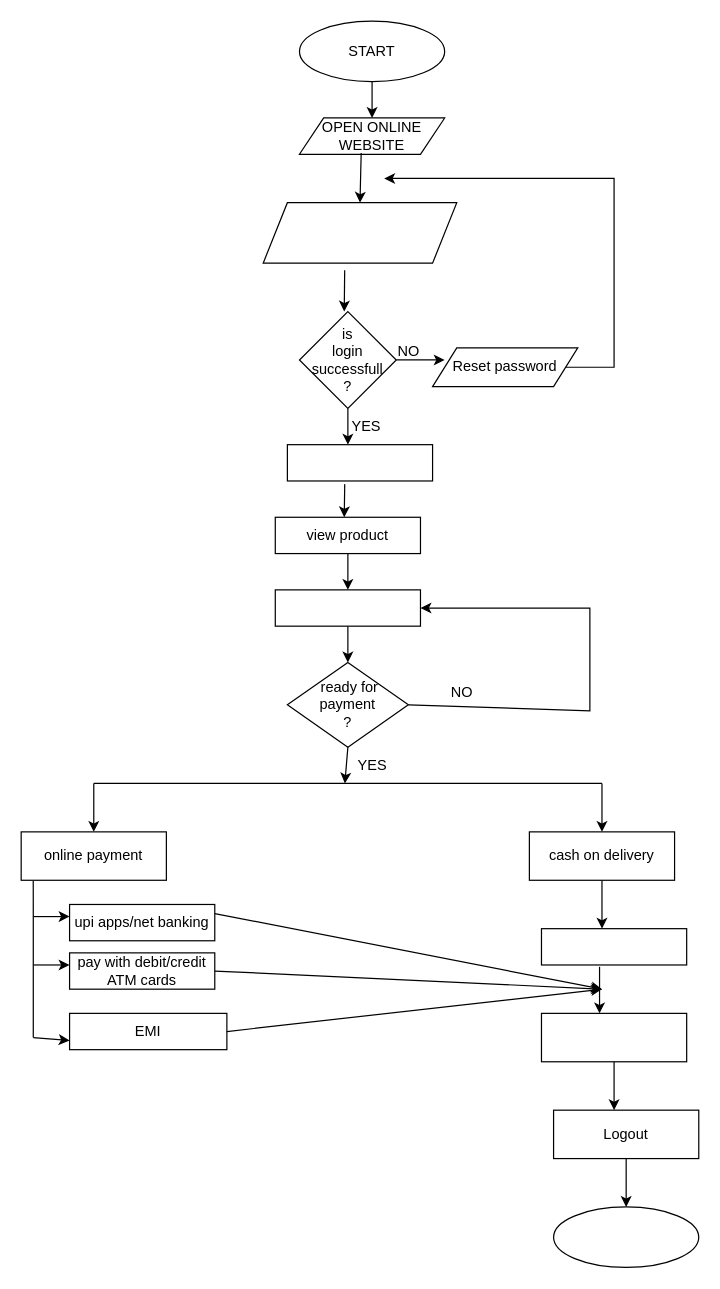
The diagram is 720 pixels wide and 1289 high, and some of its shapes have lost their labels. Each missing label, with the centre of its shape:
buy product and Add to cart: [347,607]
Click on "continue": [613,946]
login with username and password: [359,232]
place order: [613,1037]
search product: [359,462]
STOP: [625,1236]
